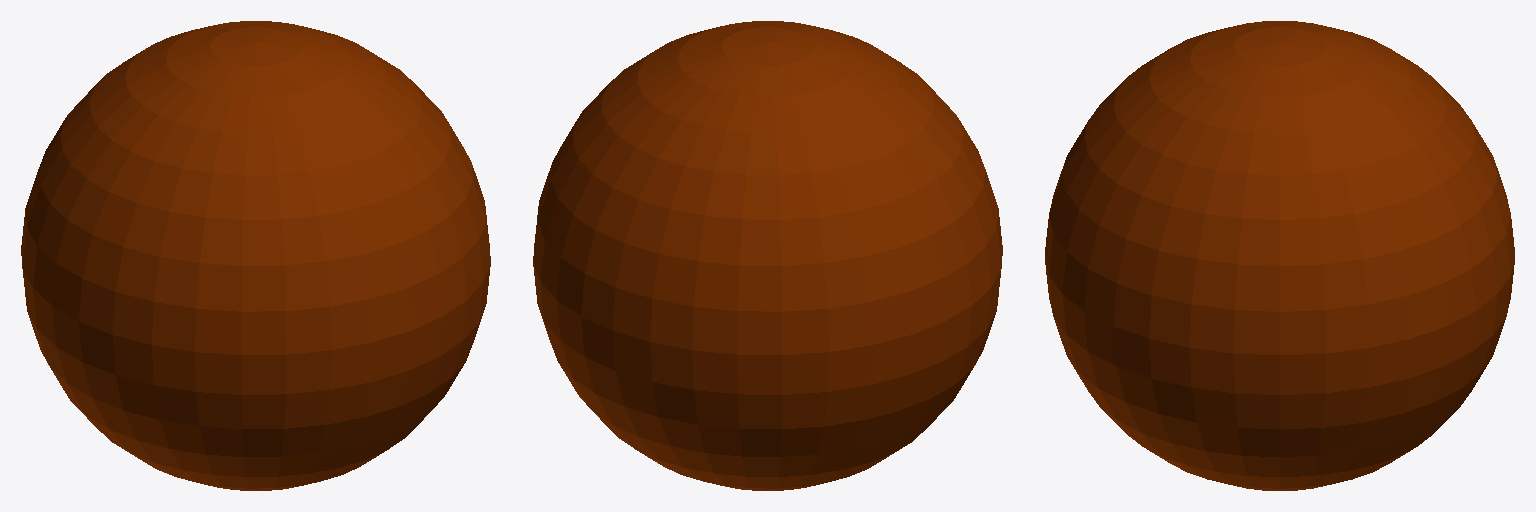
Rendered from ball2.obj.
3 renders of one model, left to right at view 1: azimuth 30°, elevation 25°; view 2: azimuth 150°, elevation 25°; view 3: azimuth 270°, elevation 25°, orthographic.
Parts seen in each view (by area): view 1: Sphere002; view 2: Sphere002; view 3: Sphere002.
Part boxes in pixels (left/top/right/bottom): Sphere002: left=21, top=21, right=490, bottom=490; Sphere002: left=533, top=21, right=1002, bottom=490; Sphere002: left=1045, top=21, right=1514, bottom=490.
Size of the model in its own units: 12 by 12 by 12.